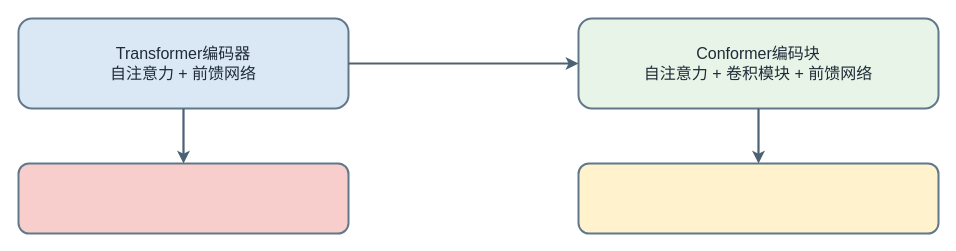
This 956x251 diagram has some shape labels left out. Here are the shapes that lost their labels. From the top down, the centre of each, then its label:
At point 183,198: "侧重长程关系 局部连续约束较弱".
At point 758,198: "长程上下文与局部动态 在同一编码块内结合".
